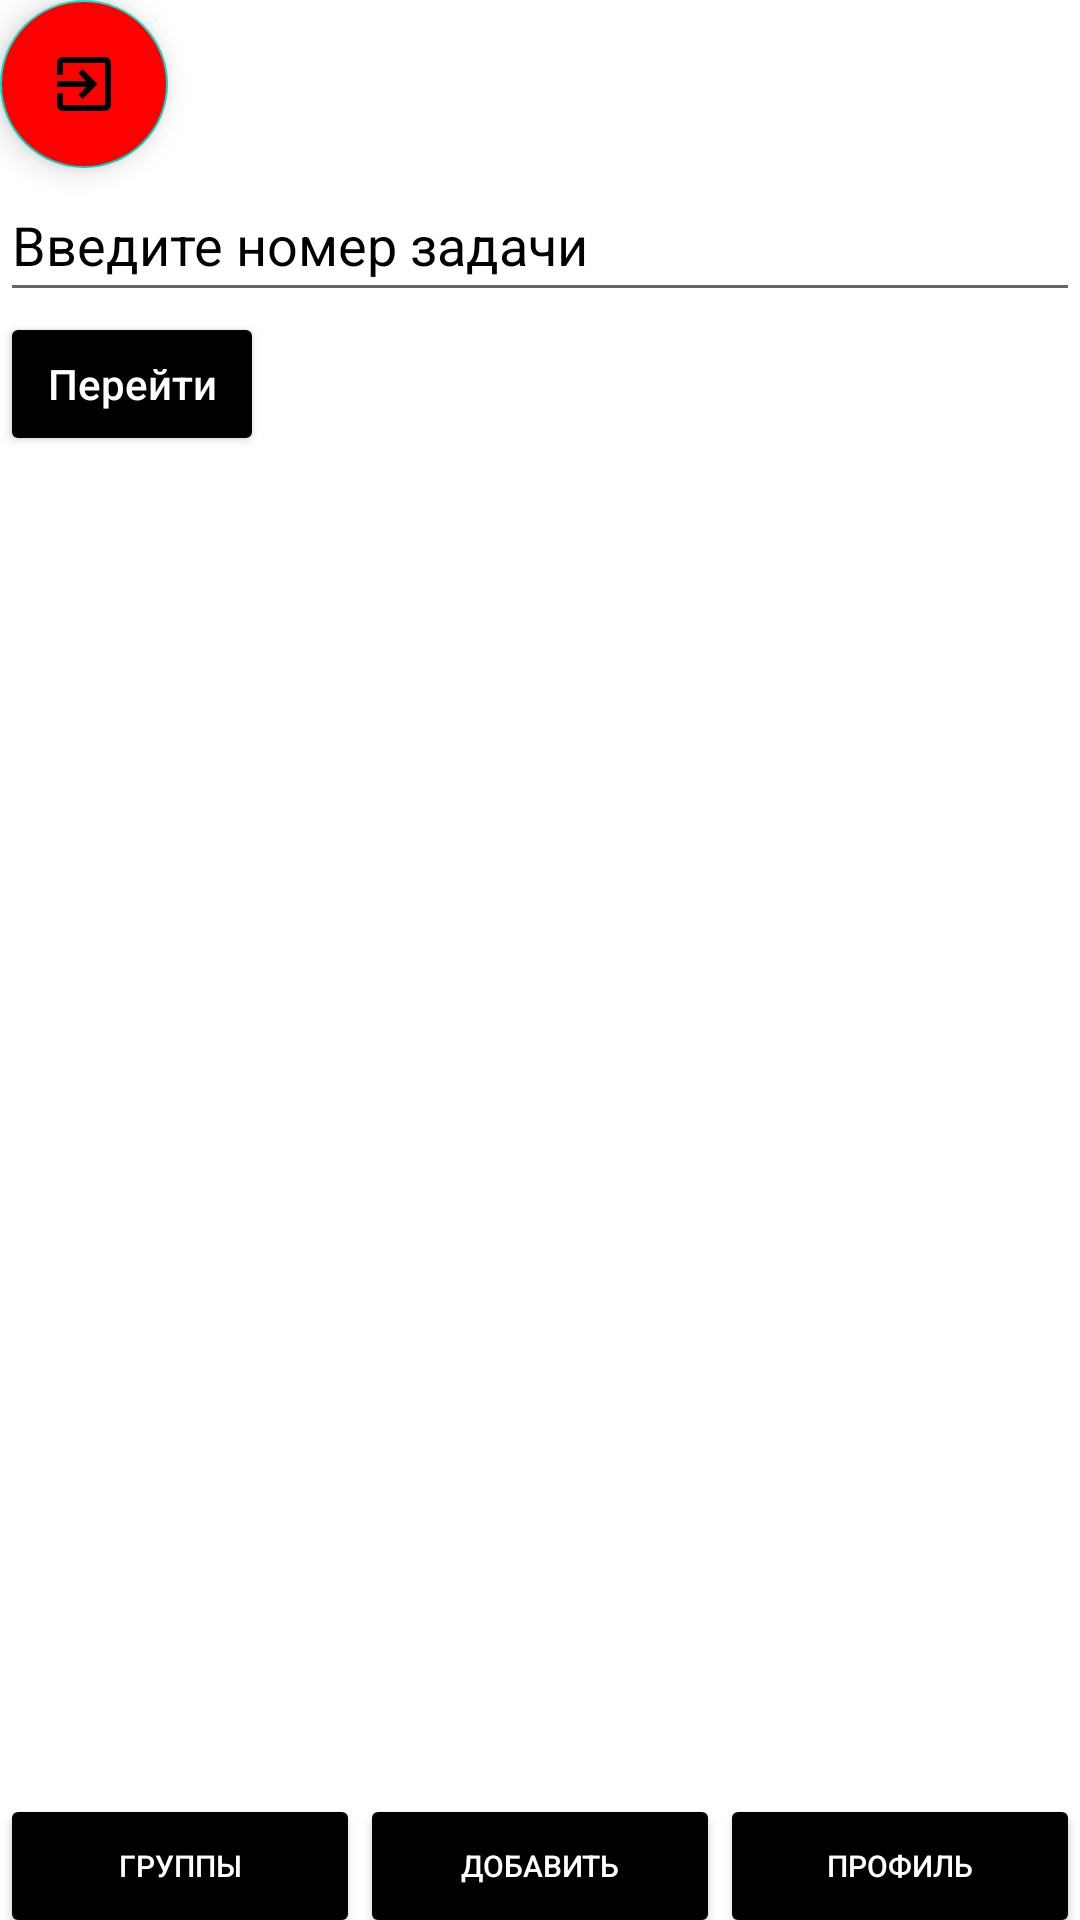

Screen size 1080×1920. Icon name, then its box in pixels as (x1, y1, x2, y2):
exit to app: (0, 0, 168, 168)
